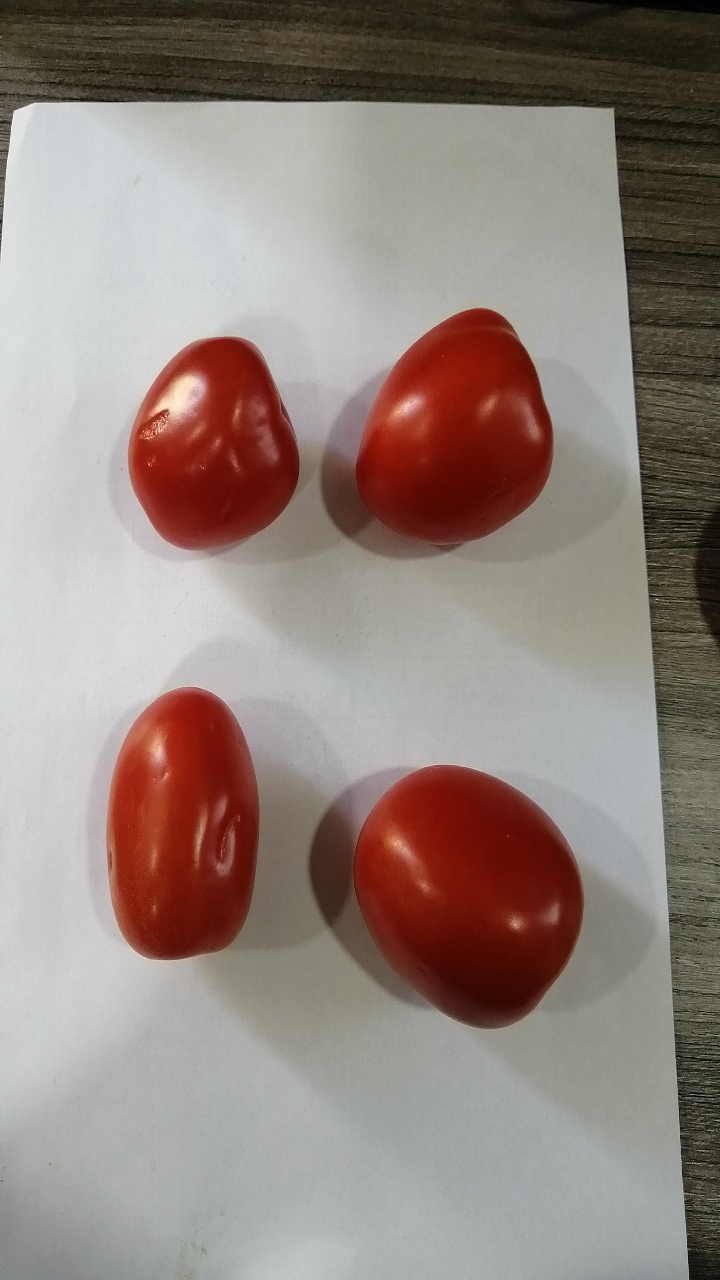tomateRojo: (324, 735, 601, 1042), (329, 300, 586, 582), (83, 665, 268, 977), (109, 308, 308, 575)
